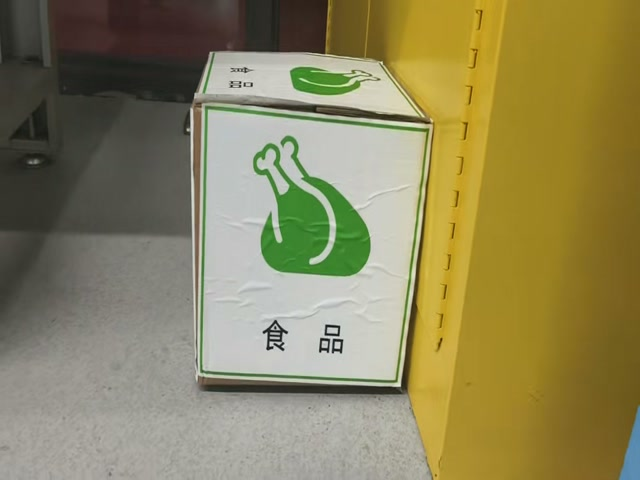Cube_food: (192, 52, 430, 123)
